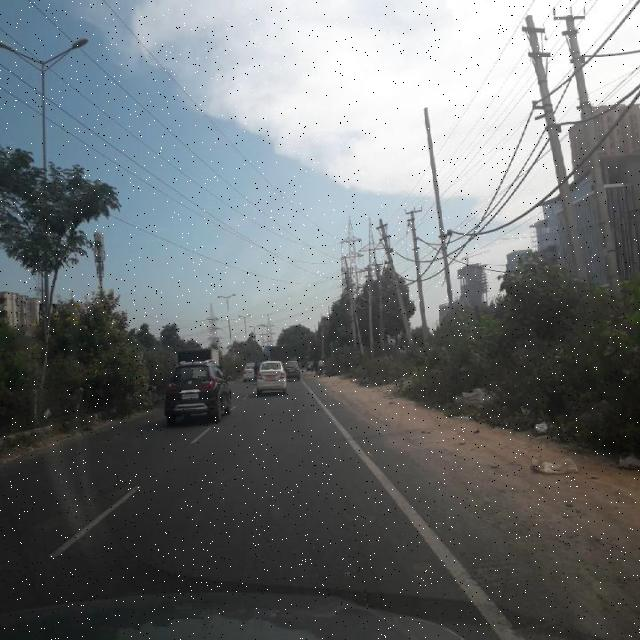D20: (106, 427, 401, 601)
